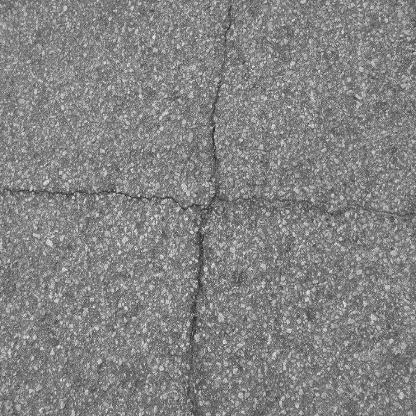Cracks: (181, 7, 241, 416), (0, 186, 416, 217)
